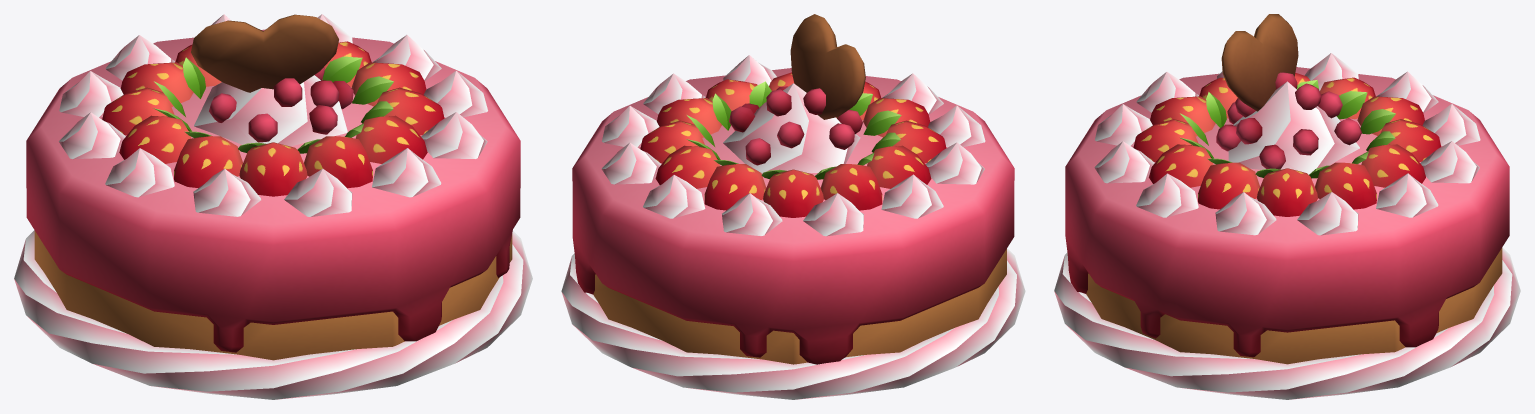
Rendered from m_ValentinesCake01.fbx.
3 views of the same model, side by side, from view 1: azimuth 30°, elevation 25°; view 2: azimuth 150°, elevation 25°; view 3: azimuth 270°, elevation 25° (orthographic). The views are drawn at different scales.
Parts seen in each view (by area): view 1: m_ValentinesCake01; view 2: m_ValentinesCake01; view 3: m_ValentinesCake01.
Part boxes in pixels (x1,y1,x2,y2): m_ValentinesCake01: (14,14,532,399); m_ValentinesCake01: (561,14,1025,399); m_ValentinesCake01: (1054,14,1520,399).
Bounding box in the file's own units: 30.41 × 19.69 × 30.41.
